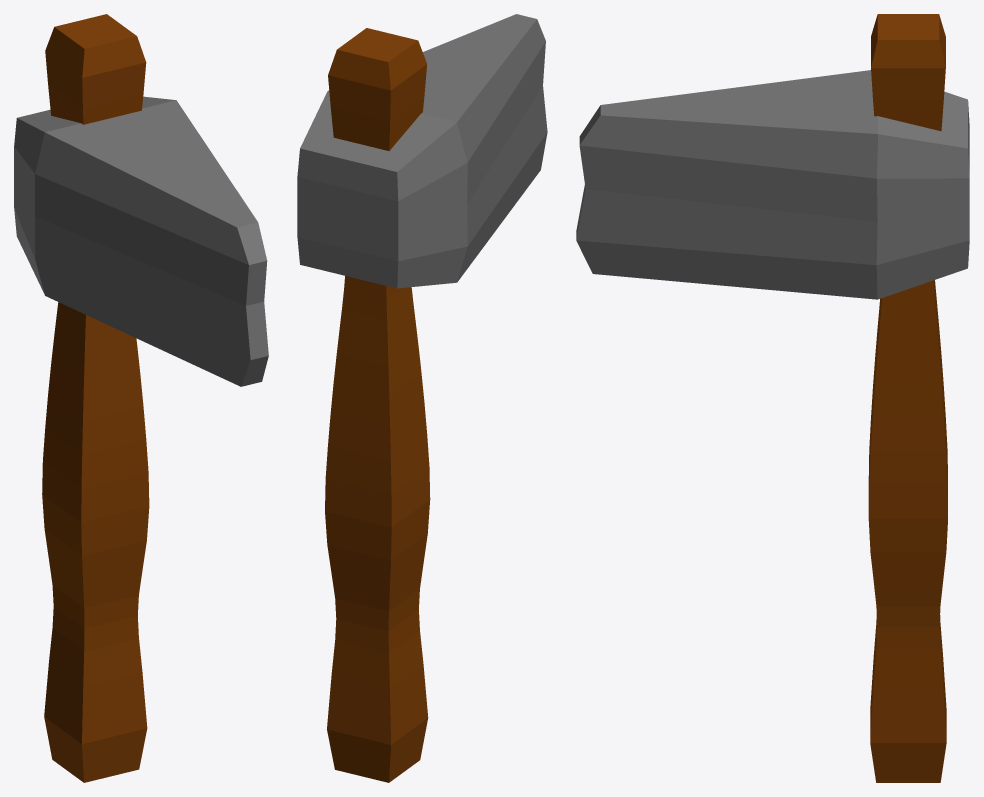
File: Axe.fbx
3 views of the same model, side by side, from view 1: azimuth 30°, elevation 25°; view 2: azimuth 150°, elevation 25°; view 3: azimuth 270°, elevation 25° (orthographic). The views are drawn at different scales.
Parts seen in each view (by area): view 1: Plane, Cube; view 2: Plane, Cube; view 3: Cube, Plane.
Boxes of the visible parts, left/top/right/bottom form: Plane: left=42, top=14, right=149, bottom=782; Cube: left=14, top=96, right=268, bottom=386; Plane: left=325, top=28, right=430, bottom=782; Cube: left=297, top=14, right=547, bottom=288; Cube: left=576, top=70, right=969, bottom=299; Plane: left=868, top=14, right=947, bottom=782.
Bounding box in the file's own units: 268 × 1232 × 592.
